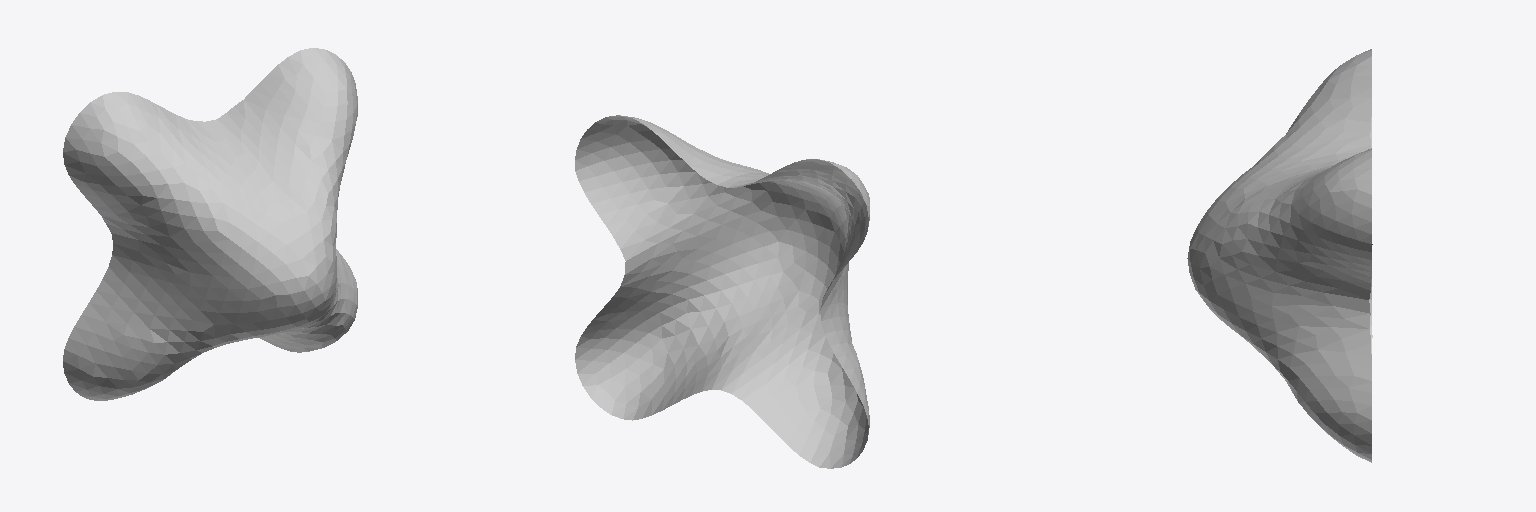
File: star2.obj
3 views of the same model, side by side, from view 1: azimuth 30°, elevation 25°; view 2: azimuth 150°, elevation 25°; view 3: azimuth 270°, elevation 25° (orthographic).
Bounding box in the file's own units: 16.06 × 16.04 × 8.75.